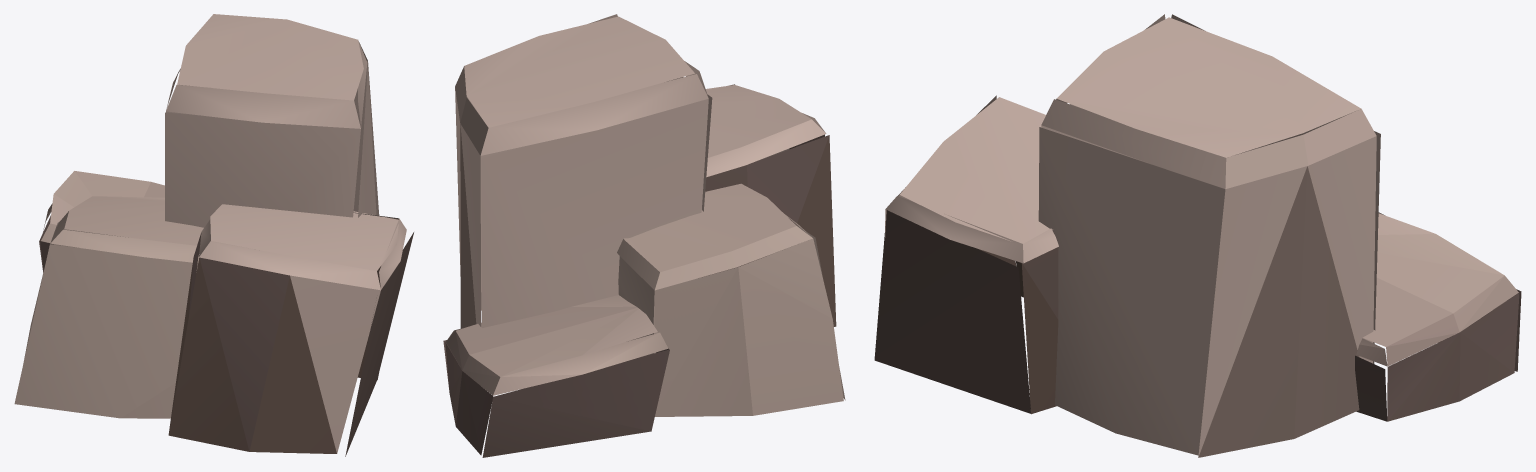
The model's file is angular_rock_block_low.glb.
3 renders of one model, left to right at view 1: azimuth 30°, elevation 25°; view 2: azimuth 150°, elevation 25°; view 3: azimuth 270°, elevation 25°, orthographic. The views are drawn at different scales.
Bounding box in the file's own units: 1.1 × 0.8049 × 1.44.
